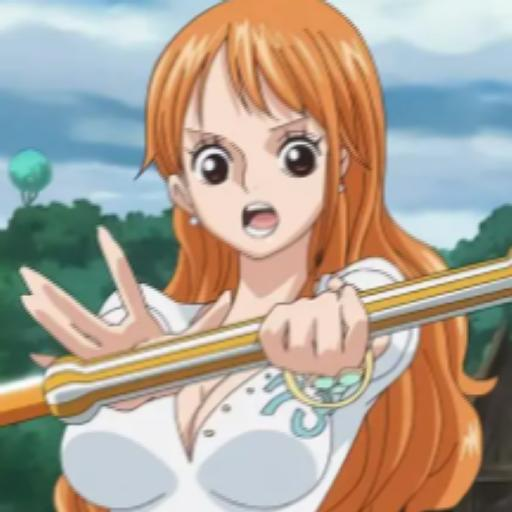Nami: (20, 0, 501, 512)
